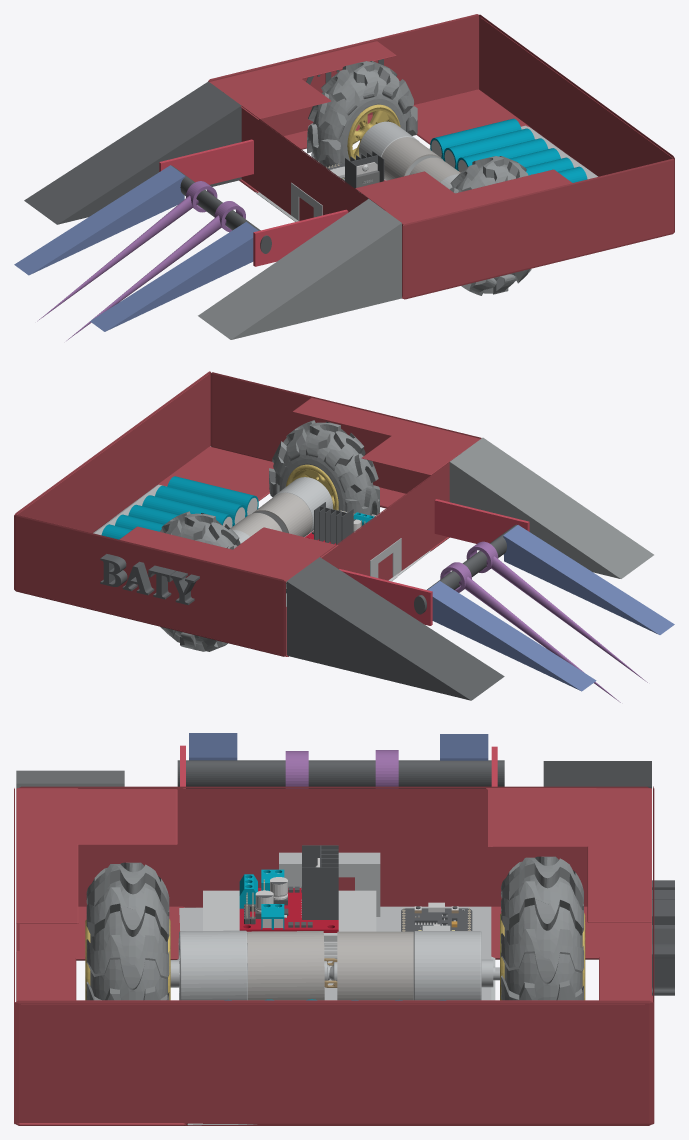
File: bot.glb
3 renders of one model, top to bottom at view 1: azimuth 30°, elevation 25°; view 2: azimuth 150°, elevation 25°; view 3: azimuth 270°, elevation 25°, orthographic. The views are drawn at different scales.
Visible parts, largest first — view 1: Mesh_Mesh_head_geo.001_lambert2SG.001; view 2: Mesh_Mesh_head_geo.001_lambert2SG.001; view 3: Mesh_Mesh_head_geo.001_lambert2SG.001.
Part boxes in pixels (box(x1,y1,x2,y2)): Mesh_Mesh_head_geo.001_lambert2SG.001: box(14, 14, 674, 340); Mesh_Mesh_head_geo.001_lambert2SG.001: box(14, 371, 674, 702); Mesh_Mesh_head_geo.001_lambert2SG.001: box(14, 733, 674, 1125).
Size of the model in its own units: 0.4308 by 0.105 by 0.287.
